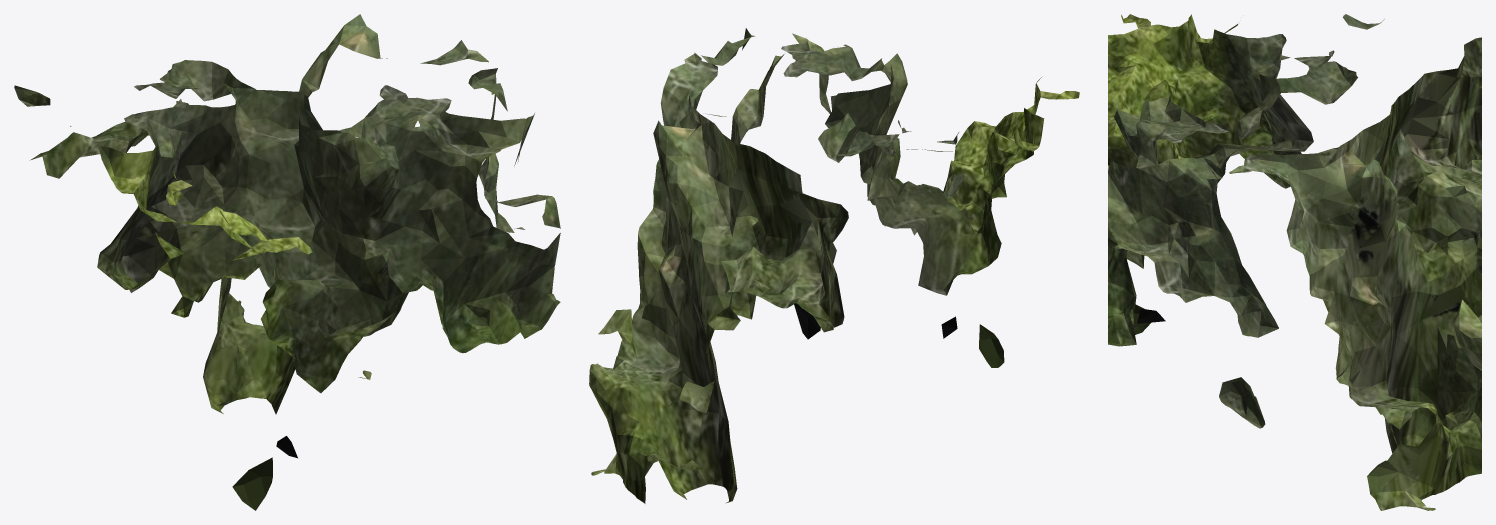
3 renders of one model, left to right at view 1: azimuth 30°, elevation 25°; view 2: azimuth 150°, elevation 25°; view 3: azimuth 270°, elevation 25°, orthographic. The views are drawn at different scales.
Bounding box in the file's own units: 5.9 × 5.9 × 5.9.
5 materials, 5 textured.
